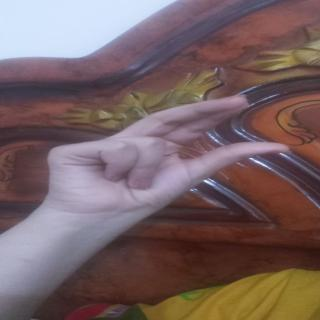DHELL: (44, 98, 289, 214)
